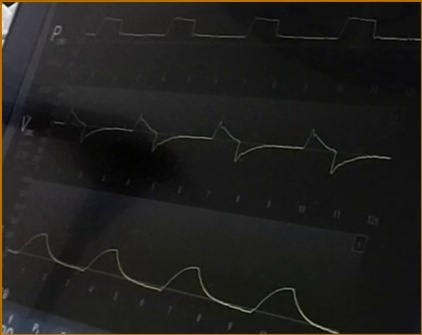Normal Flow: (54, 100, 394, 175)
Normal Volume: (9, 230, 337, 333)
